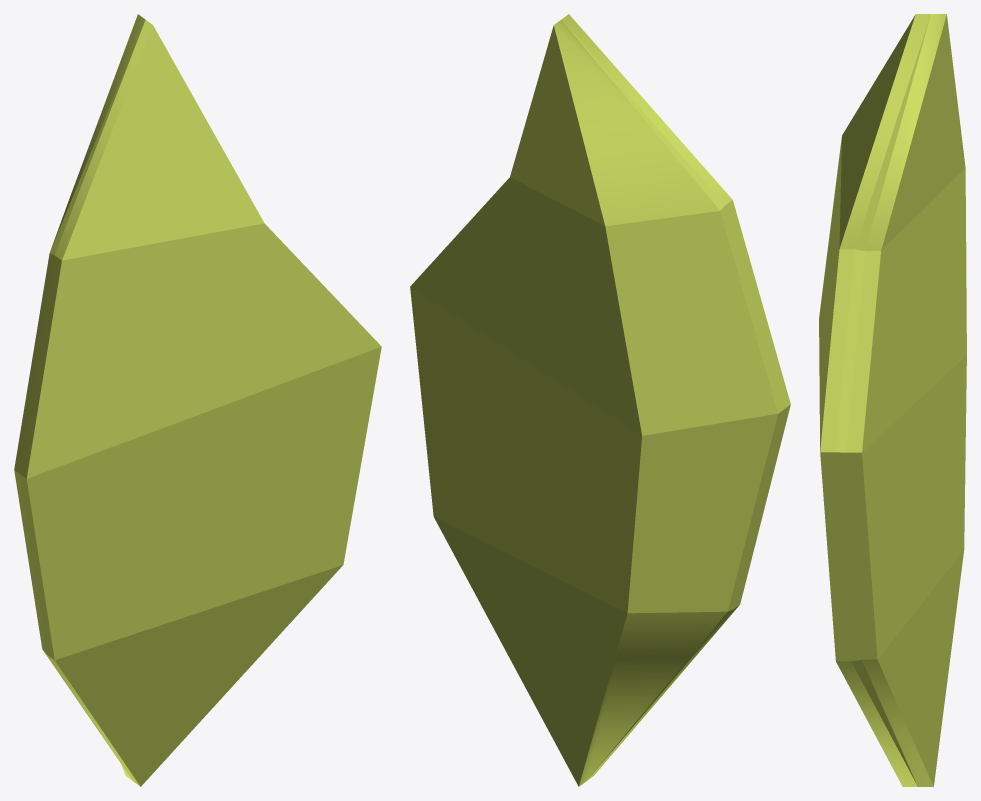
The model's file is LeaveBent_02.fbx.
The picture shows the model from 3 angles, left to right: view 1: azimuth 30°, elevation 25°; view 2: azimuth 150°, elevation 25°; view 3: azimuth 270°, elevation 25°; orthographic projection. The views are drawn at different scales.
Parts seen in each view (by area): view 1: LeaveBent_a_02_LOD0; view 2: LeaveBent_a_02_LOD0; view 3: LeaveBent_a_02_LOD0.
Part boxes in pixels (x1=…): LeaveBent_a_02_LOD0: x1=14, y1=14, x2=381, y2=786; LeaveBent_a_02_LOD0: x1=410, y1=14, x2=790, y2=786; LeaveBent_a_02_LOD0: x1=819, y1=14, x2=966, y2=786.
Size of the model in its own units: 4.68 by 9.47 by 1.62.
